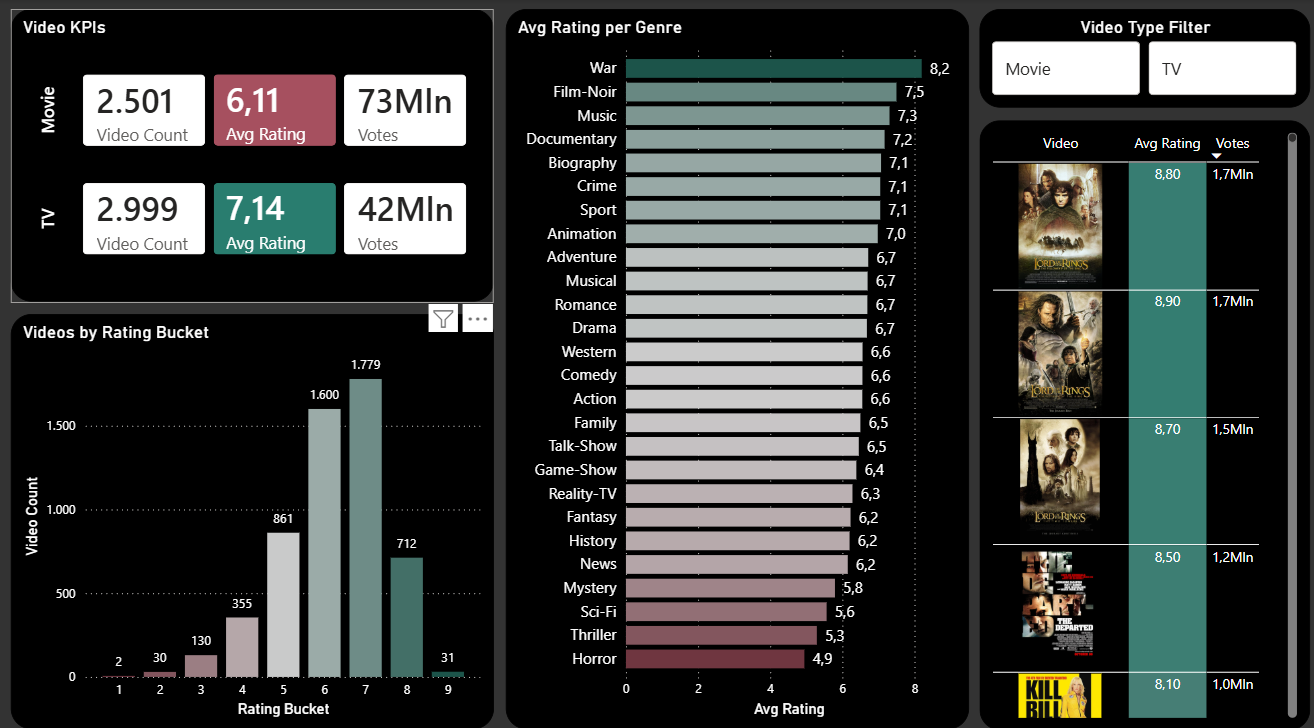

Layout of this report page (visuals, bound fields, positions):
{"tool":"powerbi","page":{"name":"Report","canvas":[1280,720],"ordinal":0},"visuals":[{"type":"columnChart","title":"Videos by Rating Bucket","fields":{"Category":["netflix_data.Rating_bucket"],"Y":["netflix_data.Video Count"]},"box":[13,304.4,466,401.1],"z":0},{"type":"cardVisual","title":"Video KPIs","fields":{"Rows":["type_group.type_groupd"],"Data":["netflix_data.Video Count","netflix_data.Avg Rating","netflix_data.Votes"]},"box":[13,10.1,466,282.8],"z":1000},{"type":"clusteredBarChart","title":"Avg Rating per Genre","fields":{"Category":["netflix_data.genre"],"Y":["netflix_data.Avg Rating"]},"box":[490.5,10.1,447.3,695.4],"z":2000},{"type":"advancedSlicerVisual","title":"Video Type Filter","fields":{"Values":["type_group.type_groupd"]},"box":[947.9,10.1,318.9,95.2],"z":3000},{"type":"tableEx","fields":{"Values":["netflix_data.image_url","netflix_data.Avg Rating","netflix_data.Votes"]},"box":[947.9,116.9,318.9,588.6],"z":4000}]}

Visuals, with their boxes in screenshot pixels (x1, y1, x2, y2), scaled from the page's 1280x720 canvas onto the 1314x728 screenshot:
"Videos by Rating Bucket" columnChart: (13,308,492,713)
"Video KPIs" cardVisual: (13,10,492,296)
"Avg Rating per Genre" clusteredBarChart: (504,10,963,713)
"Video Type Filter" advancedSlicerVisual: (973,10,1300,106)
tableEx - netflix_data.image_url x netflix_data.Avg Rating: (973,118,1300,713)
